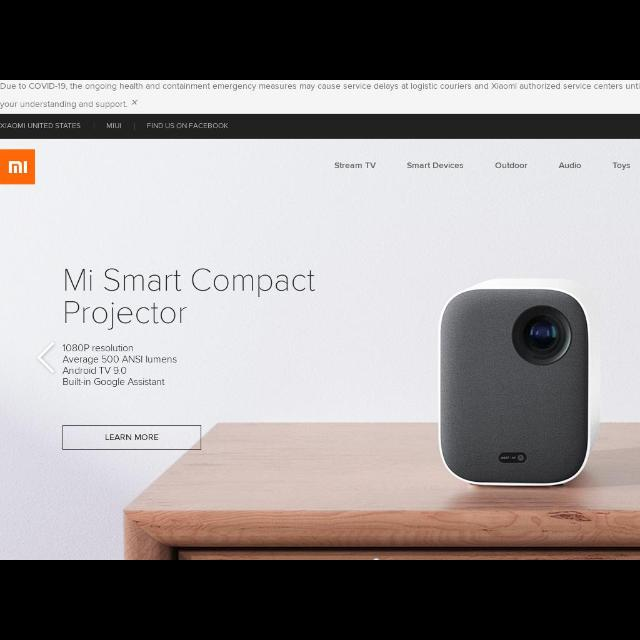backgroundimage: (1, 139, 640, 559)
icon: (36, 342, 56, 373), (132, 100, 138, 104)
iframe: (1, 81, 640, 113)
image: (1, 150, 36, 184)
multitab: (1, 114, 639, 138)
text: (65, 268, 315, 298), (1, 82, 639, 90), (65, 300, 187, 330), (1, 101, 128, 109), (63, 378, 165, 387), (63, 356, 177, 364), (63, 344, 134, 352), (63, 366, 127, 374), (1, 123, 81, 129), (148, 123, 228, 129), (105, 434, 158, 441), (408, 162, 464, 168), (336, 163, 376, 169), (496, 162, 528, 168), (612, 162, 630, 170), (559, 162, 581, 168), (106, 122, 122, 128)
textbutton: (62, 424, 202, 450)
